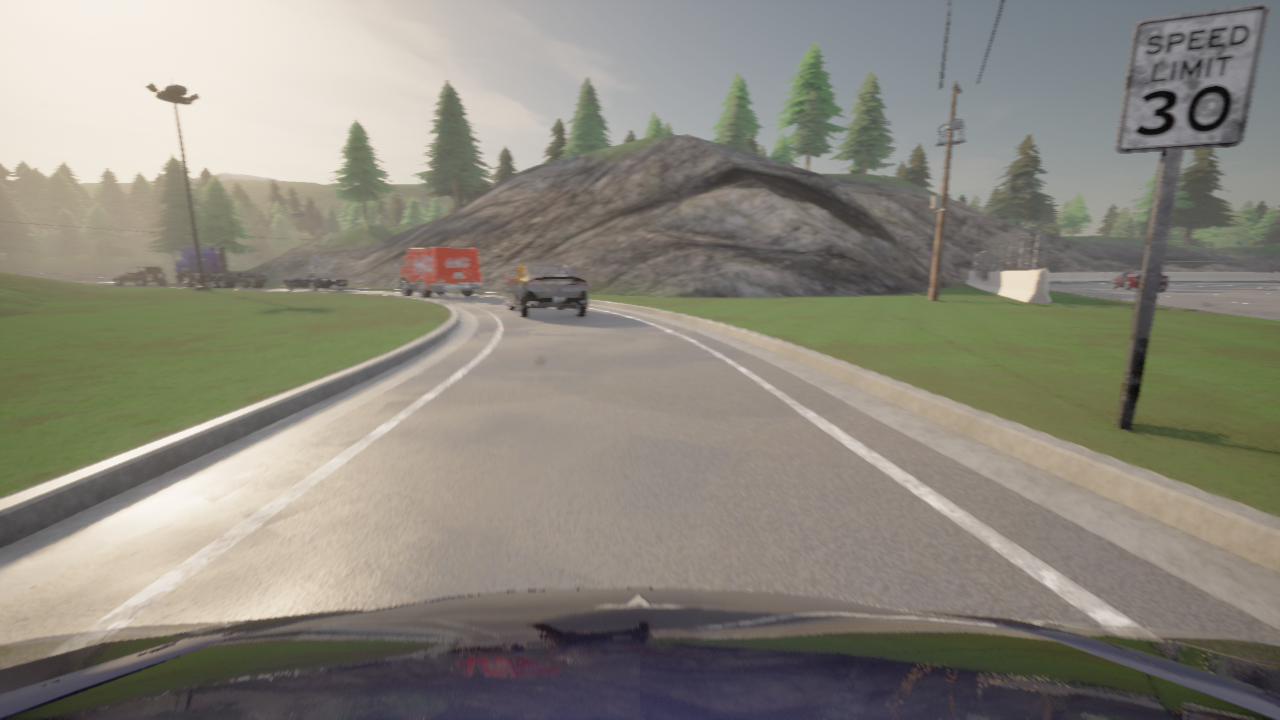cyclist: (0, 588, 1279, 719), (504, 263, 588, 317), (393, 247, 482, 297), (171, 246, 269, 288), (1112, 269, 1168, 291), (283, 272, 347, 291), (112, 265, 168, 286)
